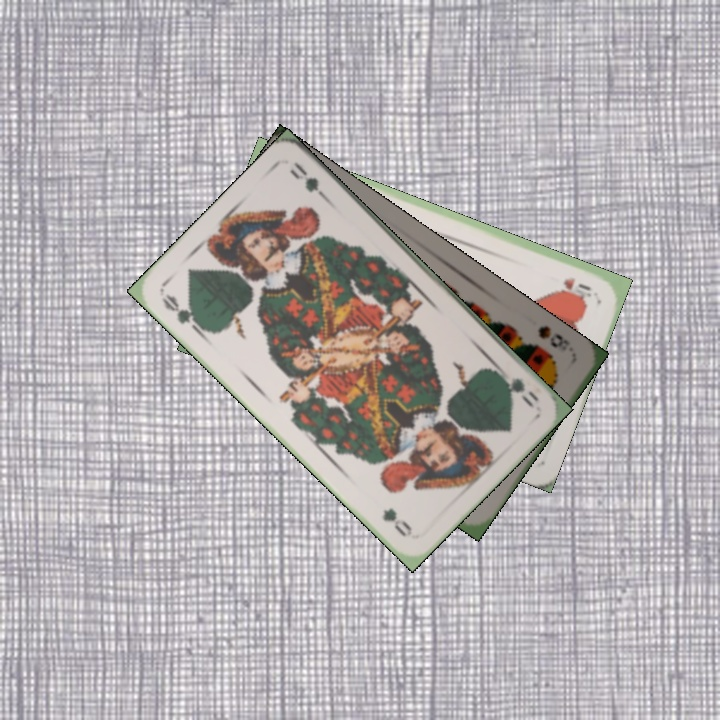GO: (491, 362, 542, 410), (157, 289, 208, 337)
HO: (559, 273, 594, 300)
S8: (534, 321, 573, 354)
